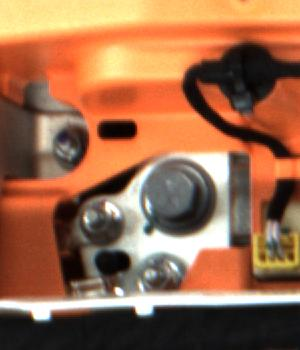nut_b: (143, 163, 216, 235)
